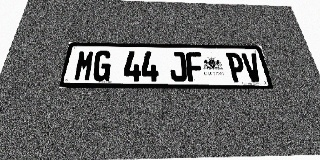4: (123, 51, 141, 81), (141, 51, 158, 81)
F: (185, 52, 204, 82)
G: (92, 50, 112, 81)
J: (169, 52, 187, 82)
M: (73, 50, 95, 81)
P: (225, 53, 247, 82)
V: (241, 53, 264, 82)
